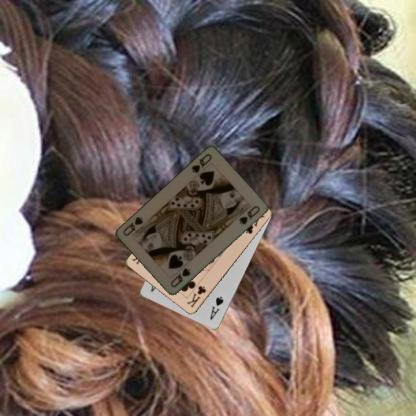As: (207, 294, 225, 321)
Kc: (183, 283, 208, 309)
Qs: (167, 266, 192, 289), (189, 152, 213, 174)
